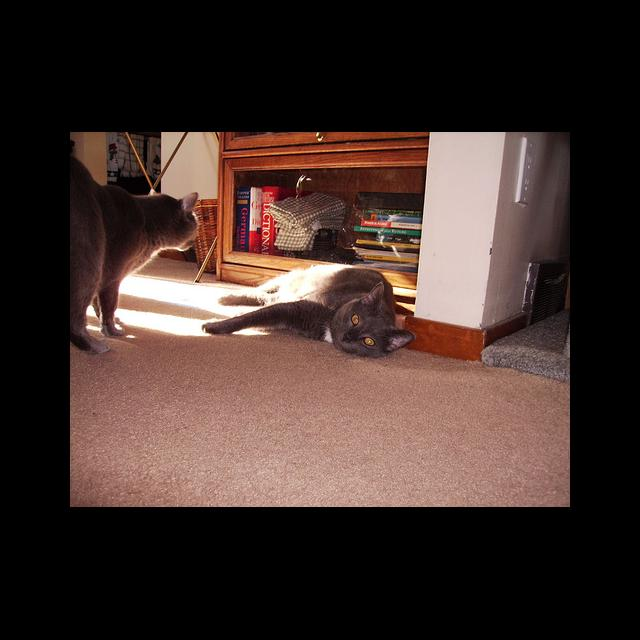animals: (345, 280, 413, 354)
